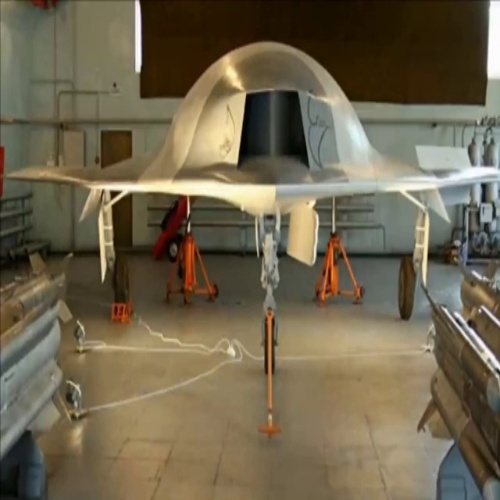uav999: (5, 37, 500, 262)
